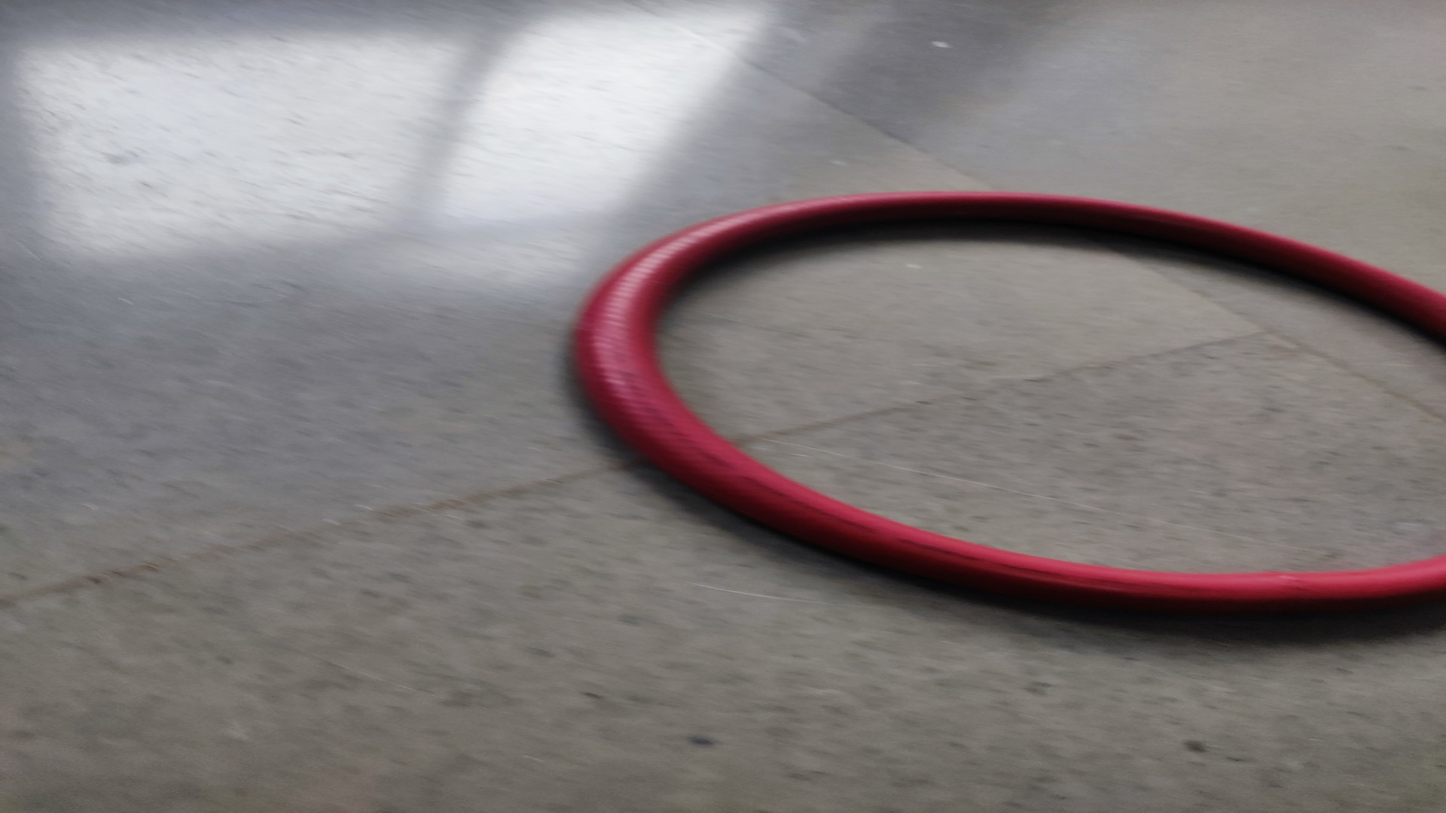Red ring: (581, 189, 1446, 618)
